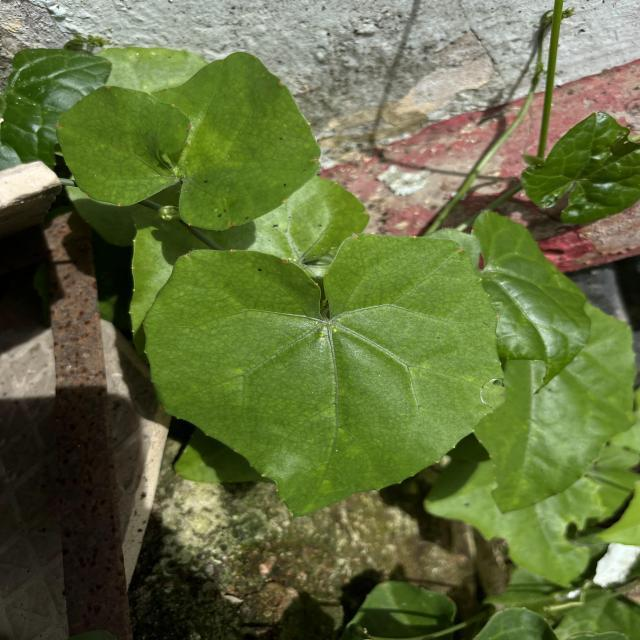Coccinia grandis: (138, 230, 508, 520)
